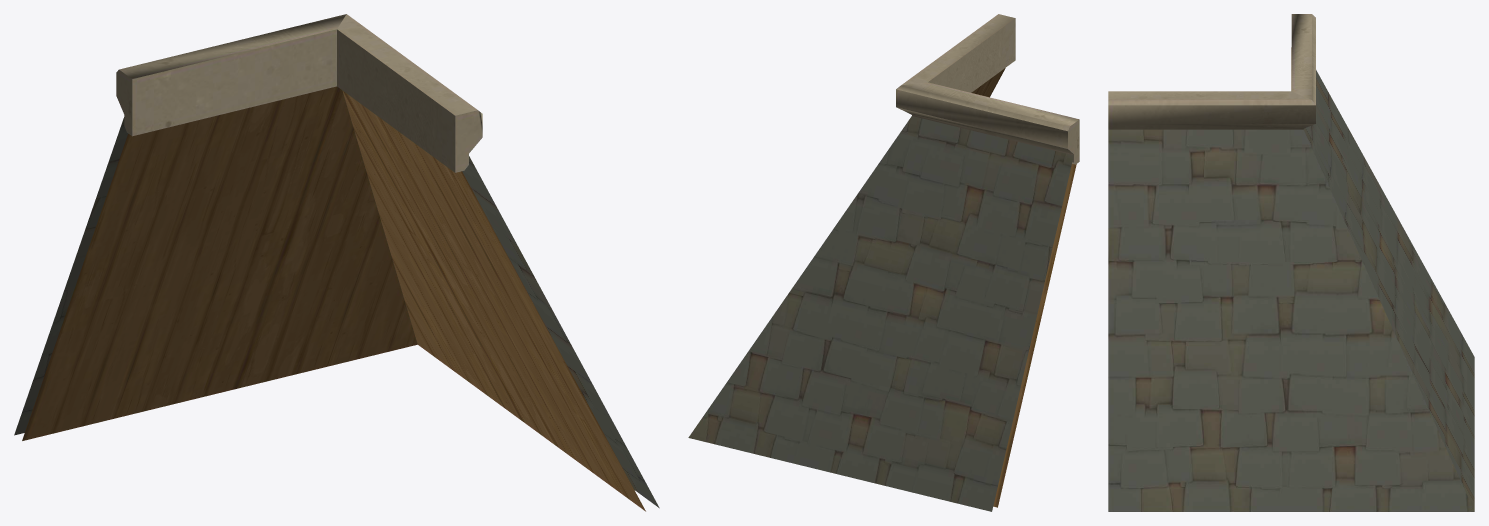
Rendered from ARC0510005.fbx.
3 renders of one model, left to right at view 1: azimuth 30°, elevation 25°; view 2: azimuth 150°, elevation 25°; view 3: azimuth 270°, elevation 25°, orthographic. The views are drawn at different scales.
Visible parts, largest first — view 1: smARC0510005; view 2: smARC0510005; view 3: smARC0510005.
Boxes of the visible parts, <box> form: smARC0510005: <box>14,14,659,511</box>; smARC0510005: <box>688,14,1079,511</box>; smARC0510005: <box>1108,14,1474,511</box>.
Bounding box in the file's own units: 300 × 310 × 300.
1 material, 1 textured.
